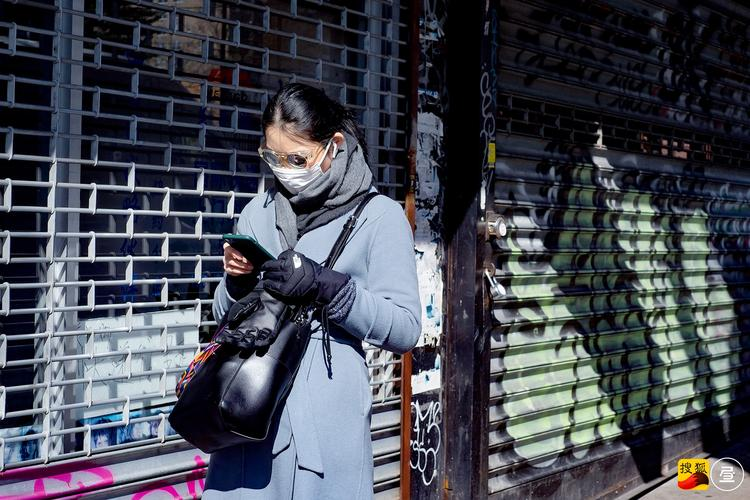mask: (261, 122, 327, 194)
